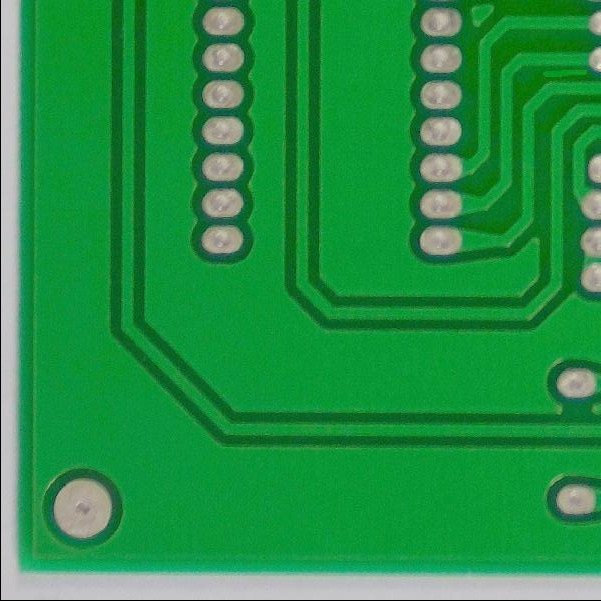spurious_copper: (536, 65, 588, 87)
